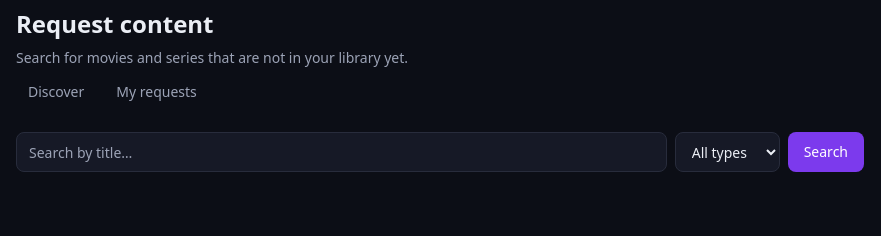
Scenario: <RequestDiscoverPage /> › shows empty results message
Type "nothing" into the field with placeholder "Search by title…".
click(341, 152); type("nothing")  # box 16,132 -> 667,172
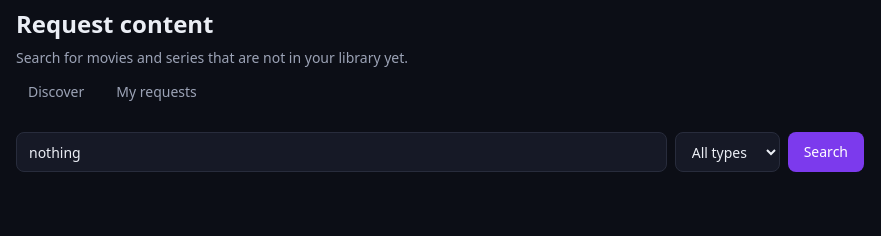
Click the button "Search".
click(826, 152)  # box 788,132 -> 864,172
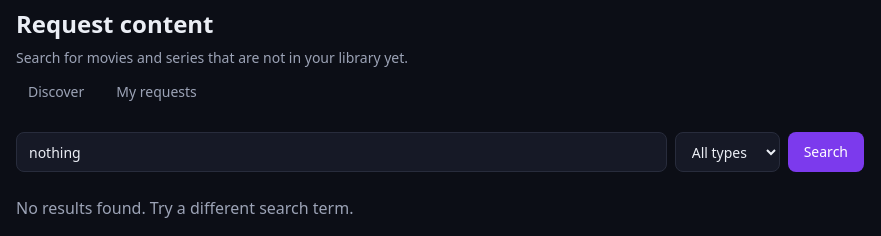
expect the text "No results found. Try a different search term." is shown: met, box 16,197 -> 354,219
